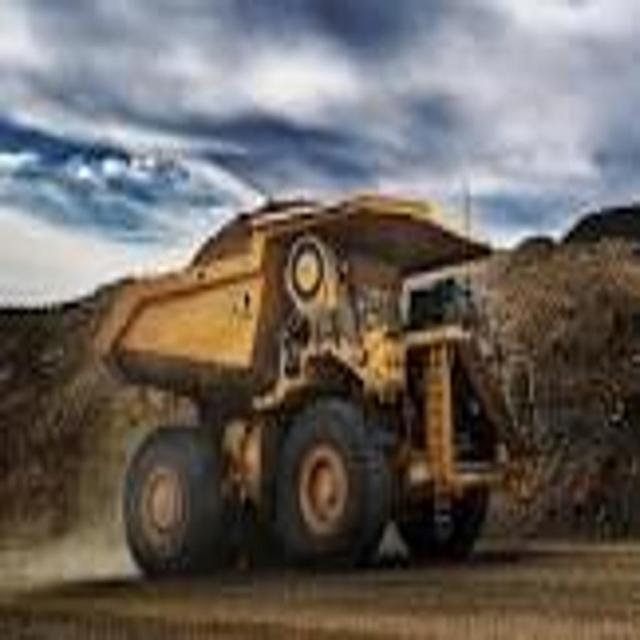dump_truck: (98, 180, 534, 583)
